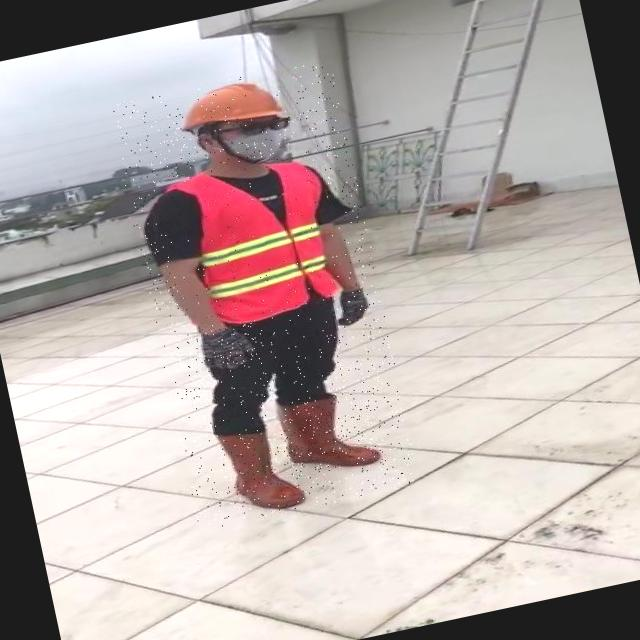boots: (276, 386, 388, 478), (212, 419, 306, 520)
gloves: (198, 321, 256, 378), (329, 285, 374, 331)
vest: (154, 146, 353, 335)
